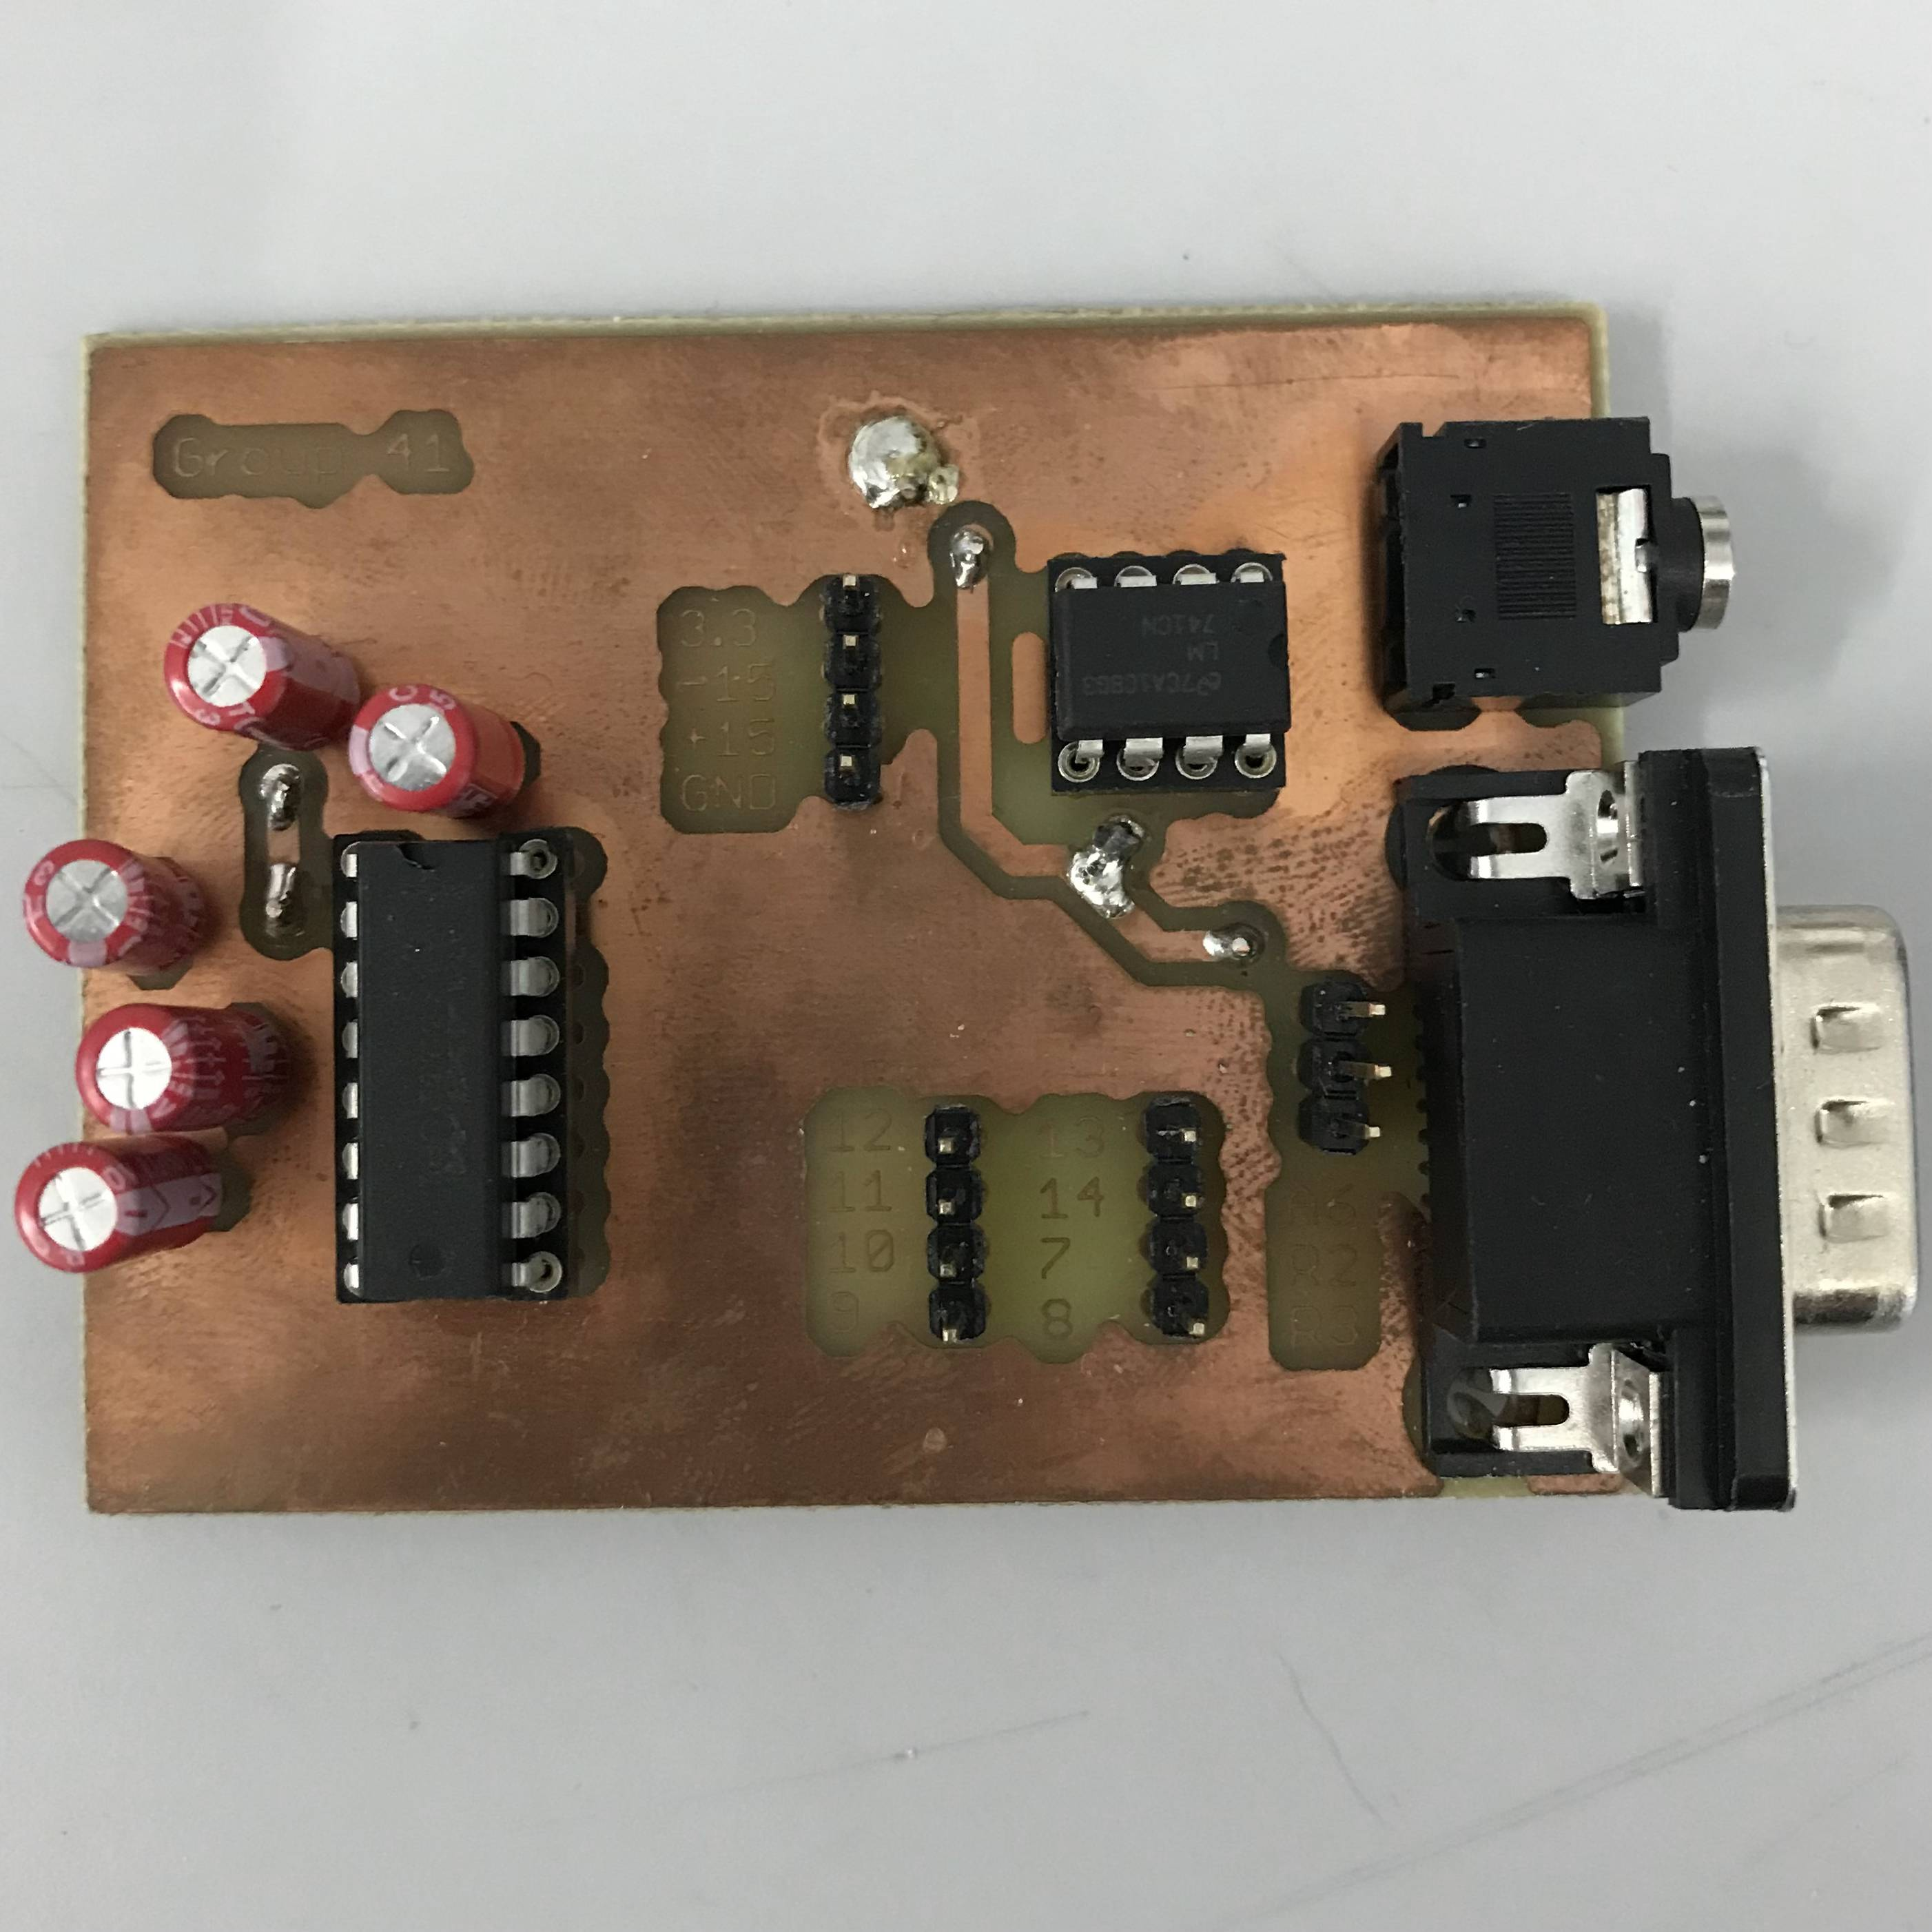Capacitor: (157, 598, 373, 757), (69, 998, 303, 1143), (7, 1129, 230, 1274), (16, 835, 207, 987), (345, 681, 533, 819)
